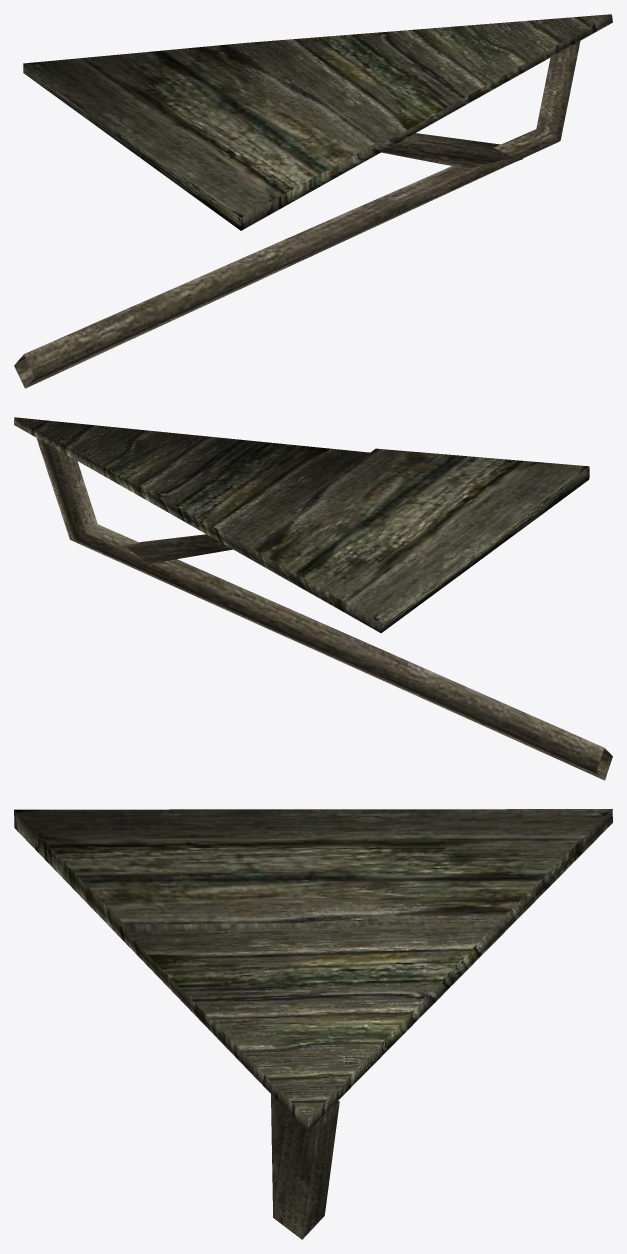
The model's file is MIN_LOB_WINKELSTEG.glb.
The picture shows the model from 3 angles, top to bottom: view 1: azimuth 30°, elevation 25°; view 2: azimuth 150°, elevation 25°; view 3: azimuth 270°, elevation 25°; orthographic projection. The views are drawn at different scales.
Visible parts, largest first — view 1: Mesh; view 2: Mesh; view 3: Mesh.
Boxes of the visible parts, left/top/right/bottom form: Mesh: left=14, top=14, right=612, bottom=388; Mesh: left=14, top=417, right=612, bottom=780; Mesh: left=14, top=809, right=612, bottom=1239.
Bounding box in the file's own units: 8.89 × 3.24 × 5.56.
Materials: 2 (2 with a texture image).
